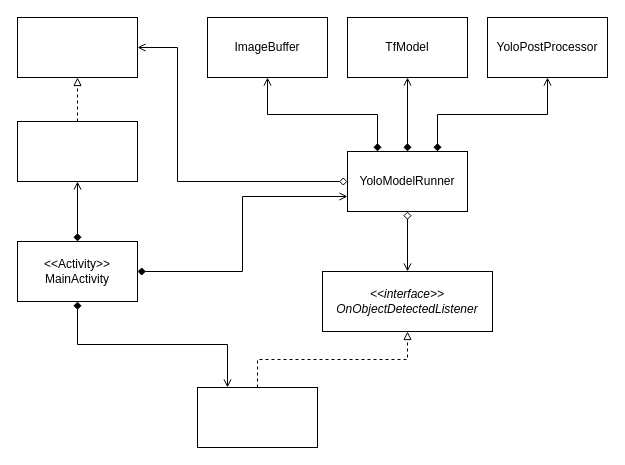
This 625x465 diagram has some shape labels left out. Here are the shapes that lost their labels. From the top down, the box of each, then its label:
(16, 16, 138, 78): <<interface>> ImageSource
(16, 120, 138, 182): CameraInput
(196, 386, 318, 448): <<View>> YoloBoxView
